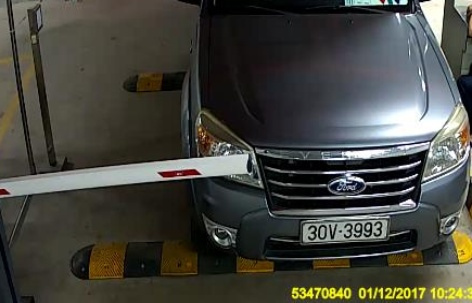plate: (299, 216, 392, 243)
